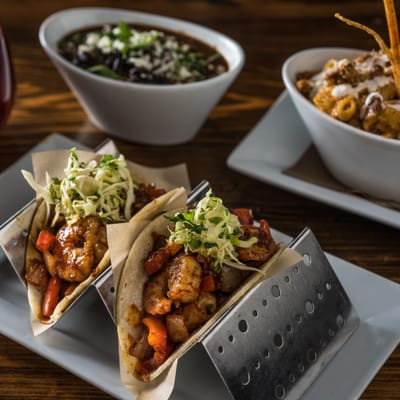sushi: (38, 6, 246, 147), (281, 45, 400, 207)
